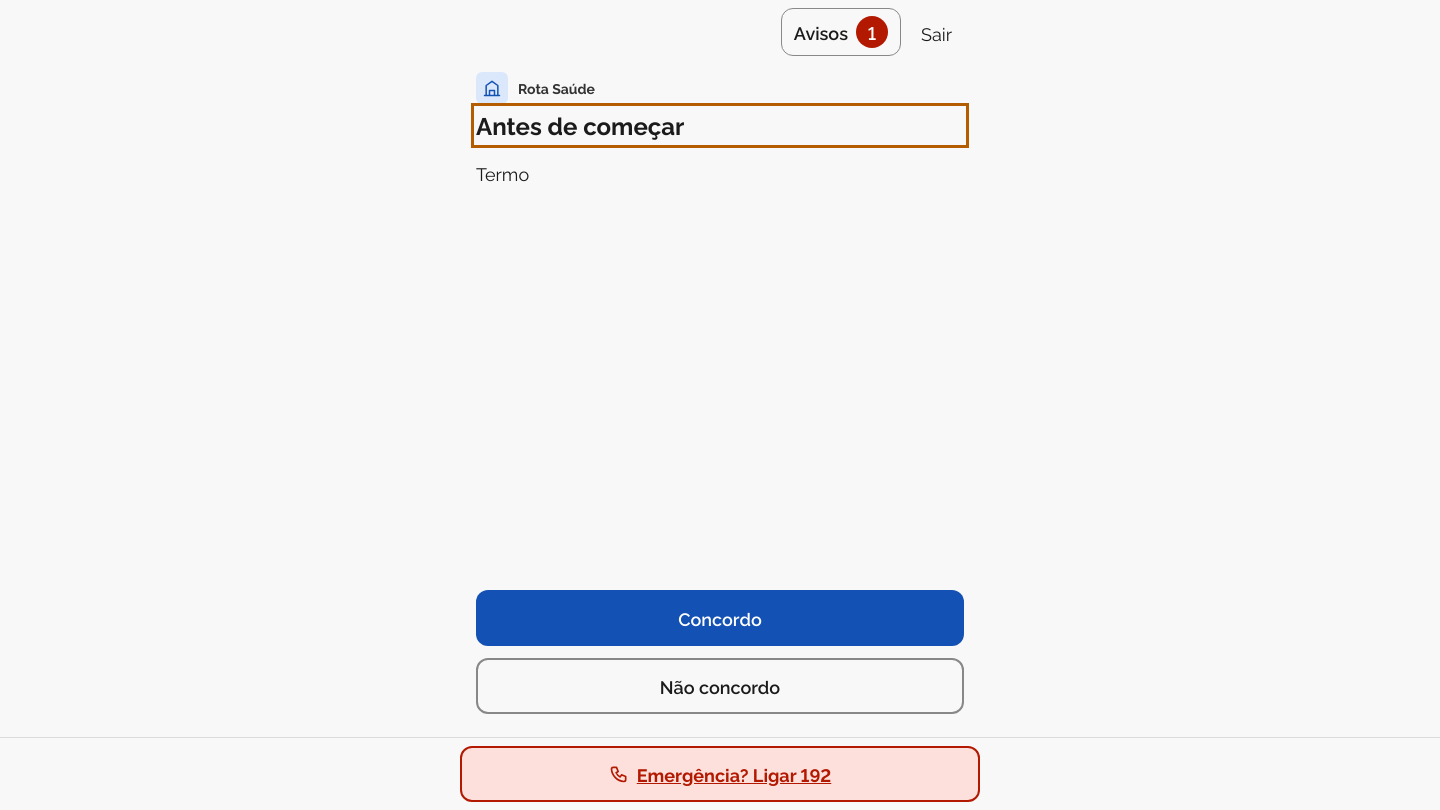
Test: Flow — link Avisos no topo › da tela de pessoas: abre a caixa, ler tira o selo do topo na hora, e voltar volta às pessoas
Click the button "Concordo" at point(720, 618), box [476, 590, 964, 646]
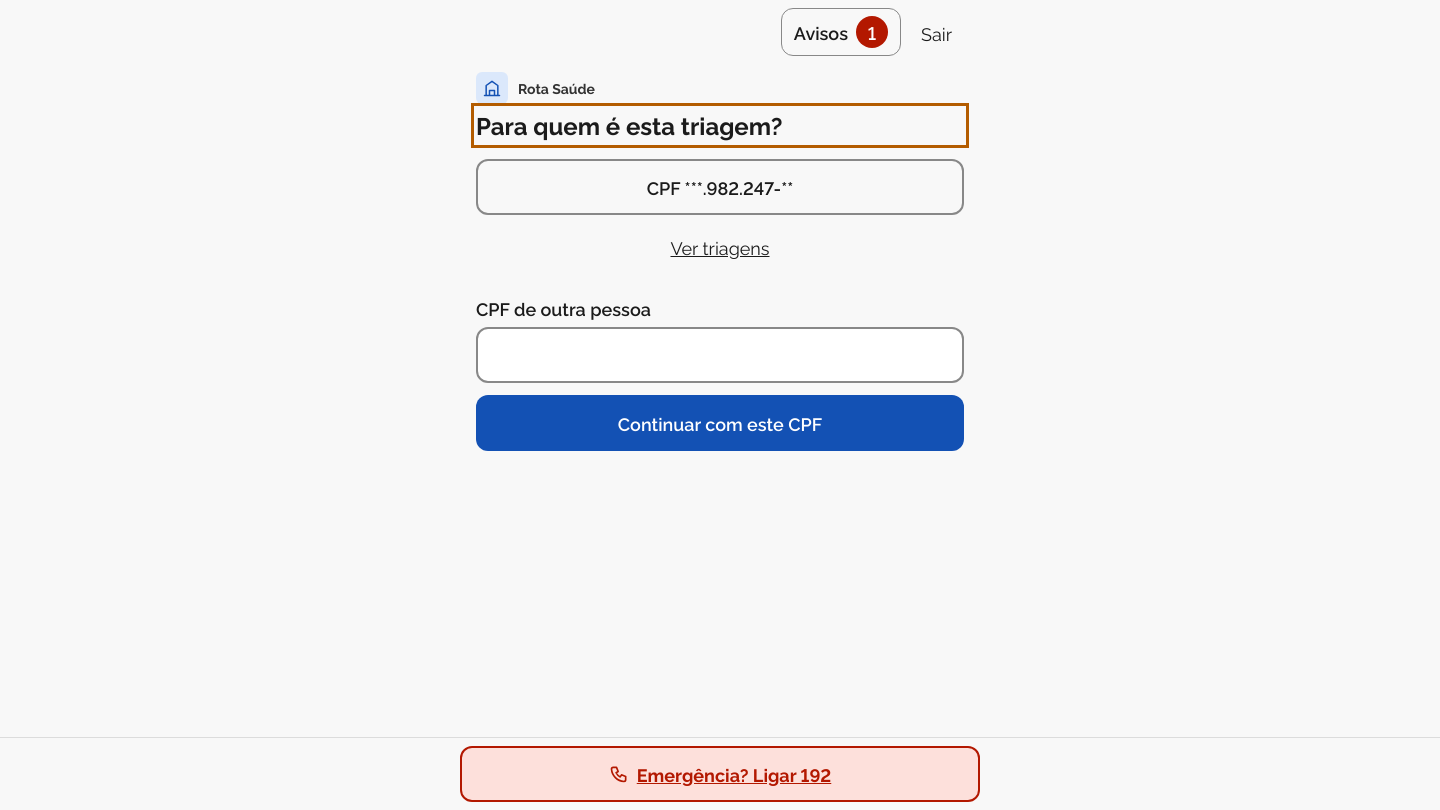
Now the heading "Para quem é esta triagem?" is shown, box [476, 108, 782, 141]
Click the link with aria-label "Avisos, 1 novo" at point(841, 32), box [781, 8, 901, 56]
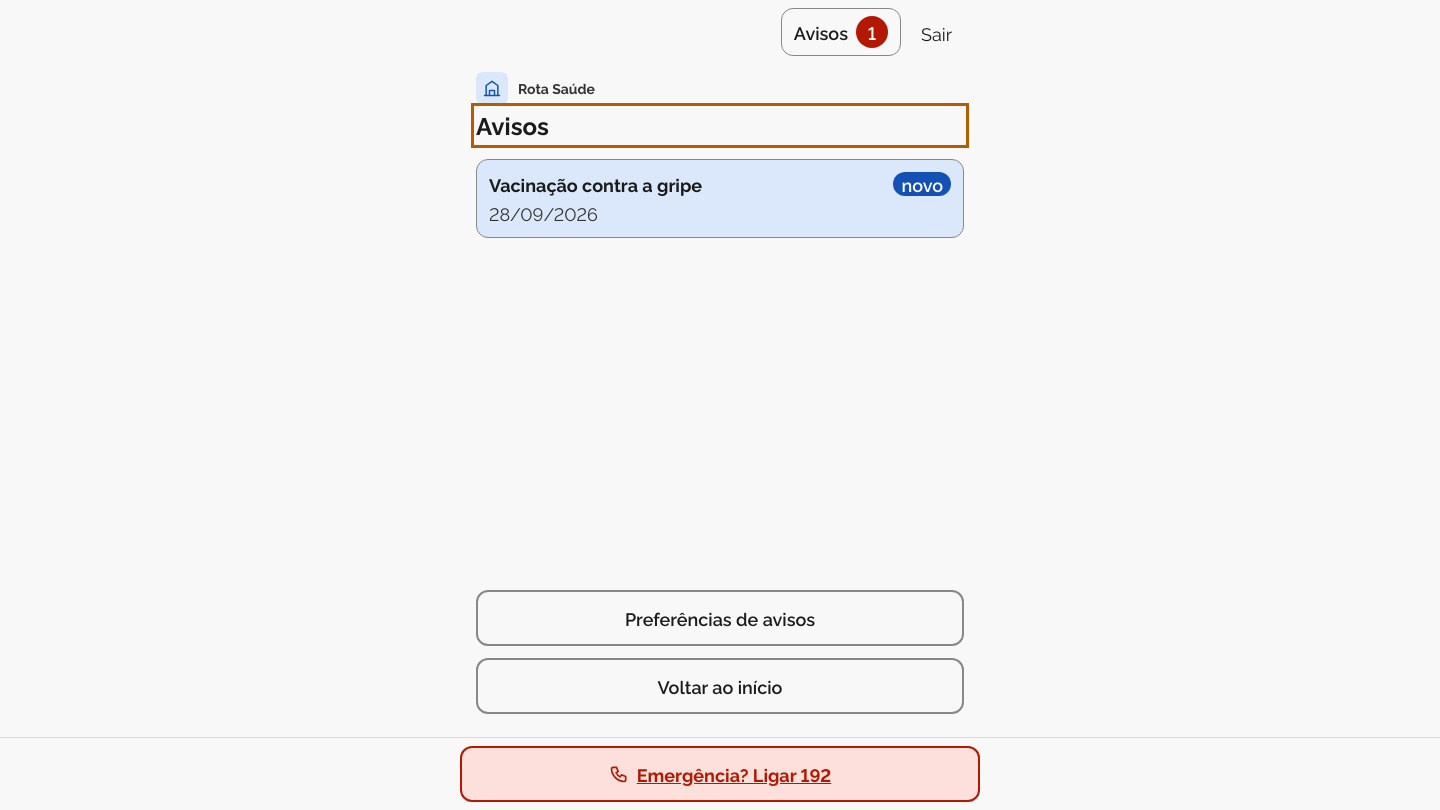
Now the heading "Avisos" is shown, box [476, 108, 549, 141]
Click the button "Vacinação contra a gripe novo 28/09/2026" at point(596, 184), box [476, 159, 964, 238]
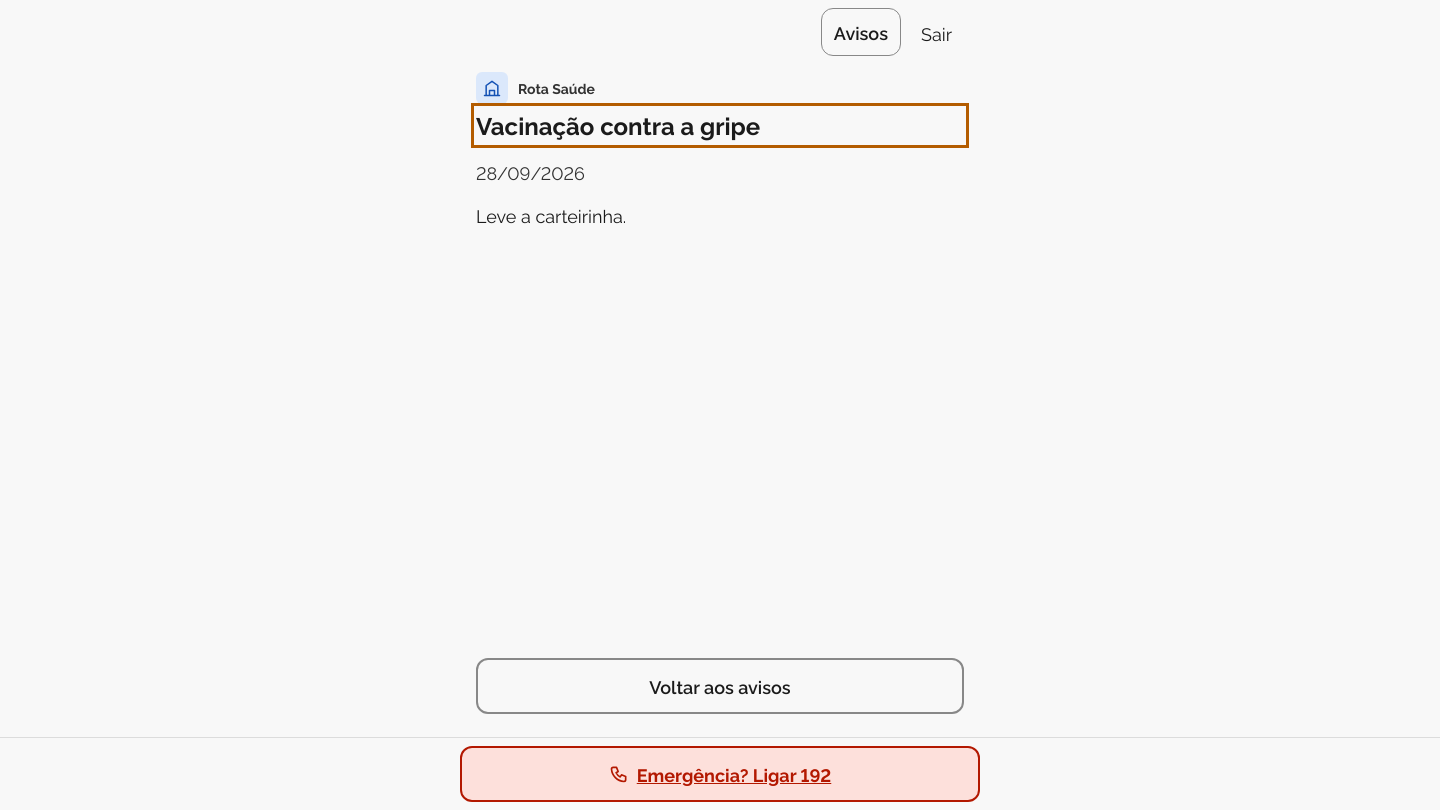
Expected: the link "Avisos" is shown, [821, 8, 901, 56]
Click the button "Voltar aos avisos" at point(720, 686), box [476, 658, 964, 714]
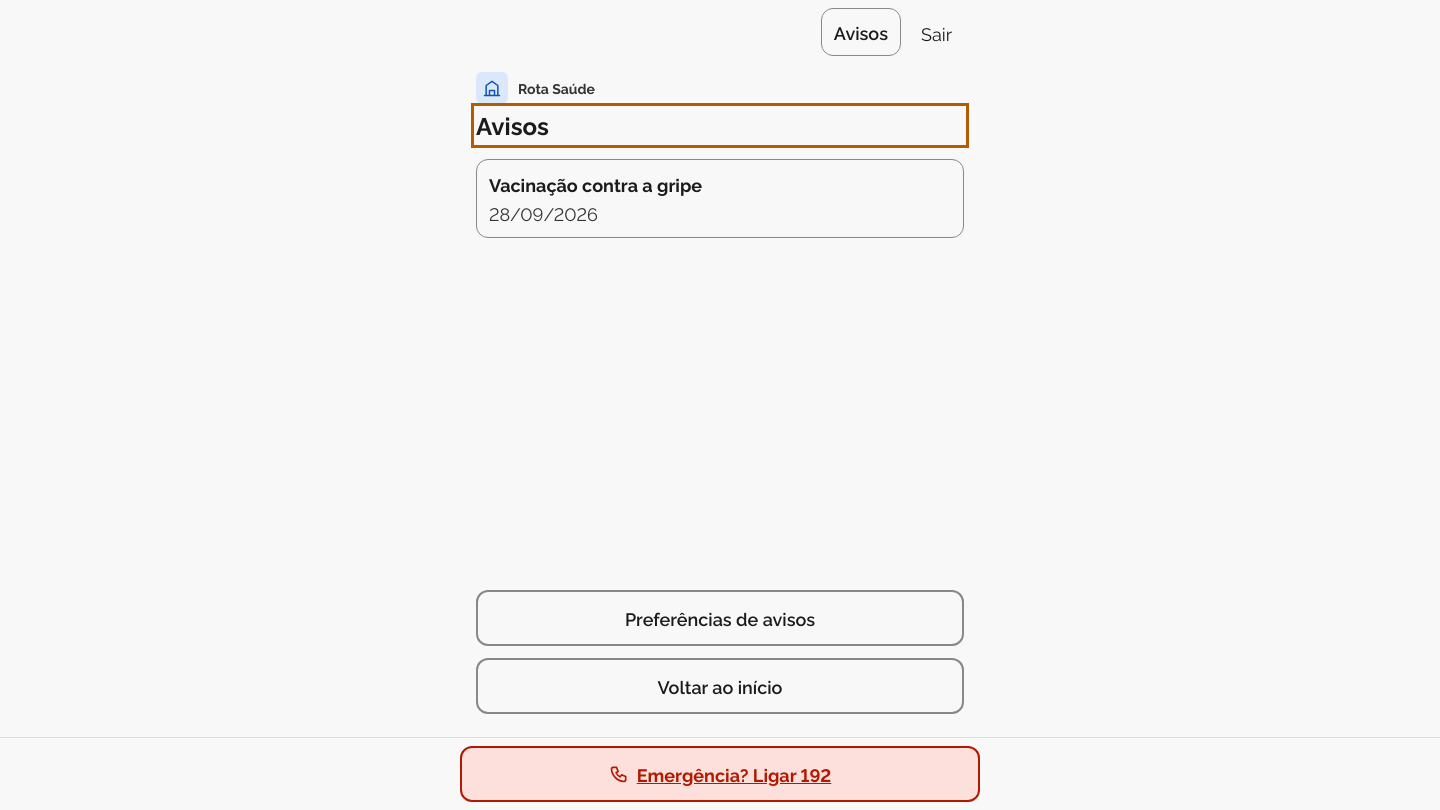
Click the button "Voltar ao início" at point(720, 686), box [476, 658, 964, 714]
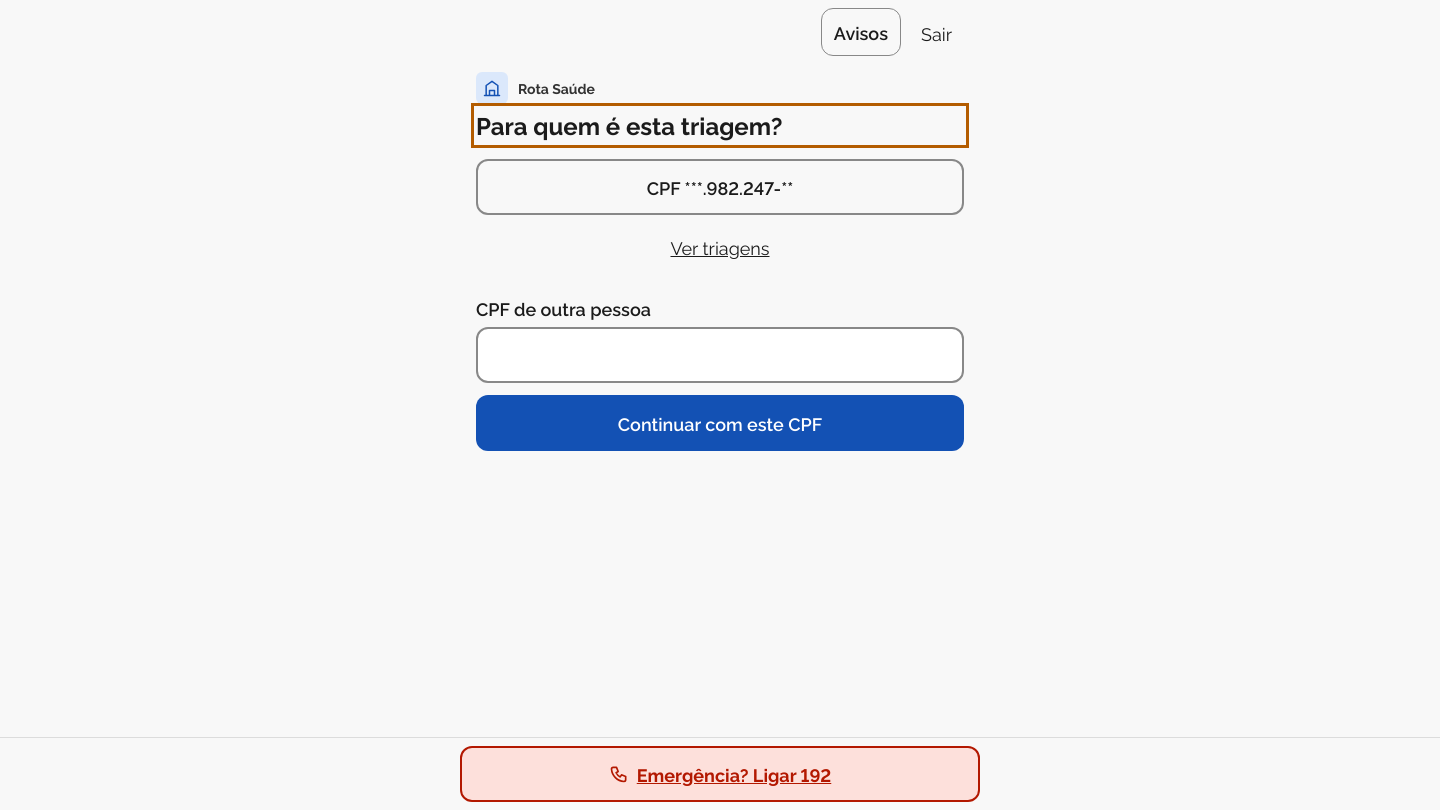
Now the link "Avisos" is shown, box [821, 8, 901, 56]
Now the heading "Para quem é esta triagem?" is shown, box [476, 108, 782, 141]
